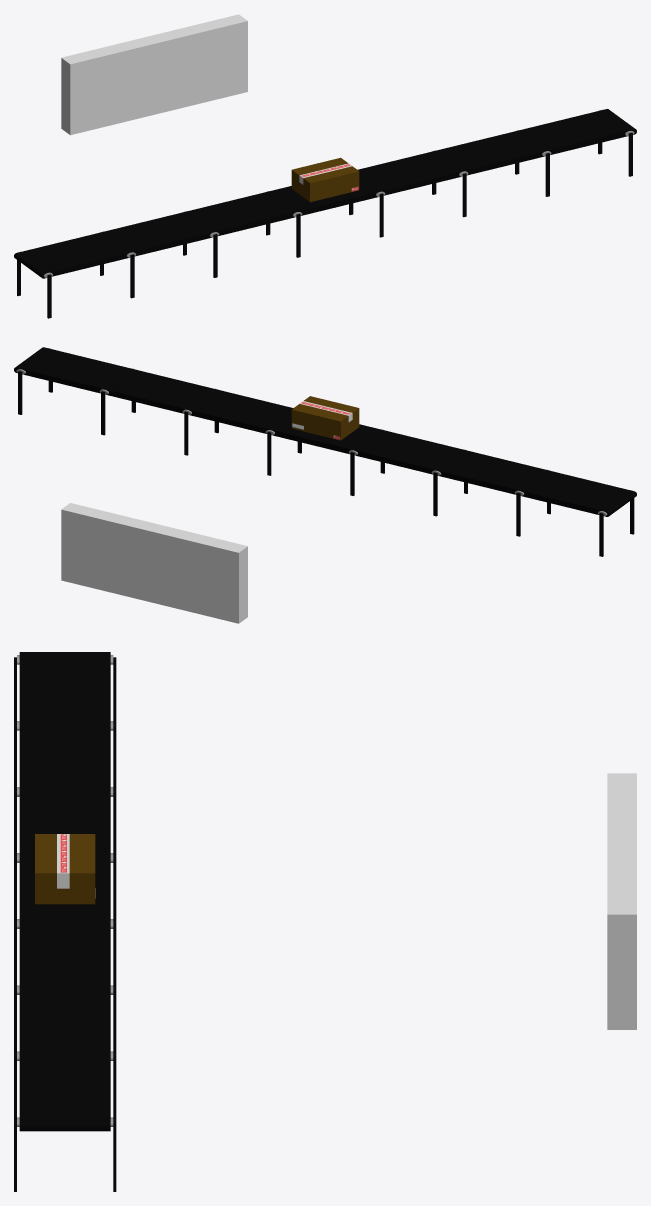
The model's file is Caixa.glb.
3 renders of one model, top to bottom at view 1: azimuth 30°, elevation 25°; view 2: azimuth 150°, elevation 25°; view 3: azimuth 270°, elevation 25°, orthographic. The views are drawn at different scales.
Parts seen in each view (by area): view 1: Esteira, Cube, Caixa Correios Grande; view 2: Esteira, Cube, Caixa Correios Grande; view 3: Esteira, Cube, Caixa Correios Grande.
Part boxes in pixels (bbox=[...]): Esteira: bbox=[14, 109, 636, 318]; Cube: bbox=[61, 14, 247, 135]; Caixa Correios Grande: bbox=[291, 157, 359, 202]; Esteira: bbox=[14, 347, 636, 556]; Cube: bbox=[61, 503, 247, 623]; Caixa Correios Grande: bbox=[291, 396, 359, 440]; Esteira: bbox=[14, 652, 116, 1191]; Cube: bbox=[607, 773, 636, 1029]; Caixa Correios Grande: bbox=[35, 834, 95, 904].
Bounding box in the file's own units: 6.7 × 0.7661 × 3.73.
8 materials, 3 textured.
